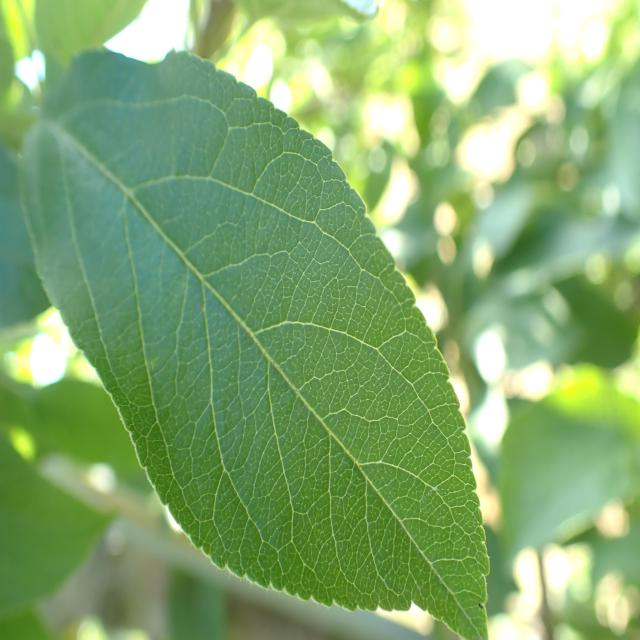healthy: (17, 45, 490, 636)
